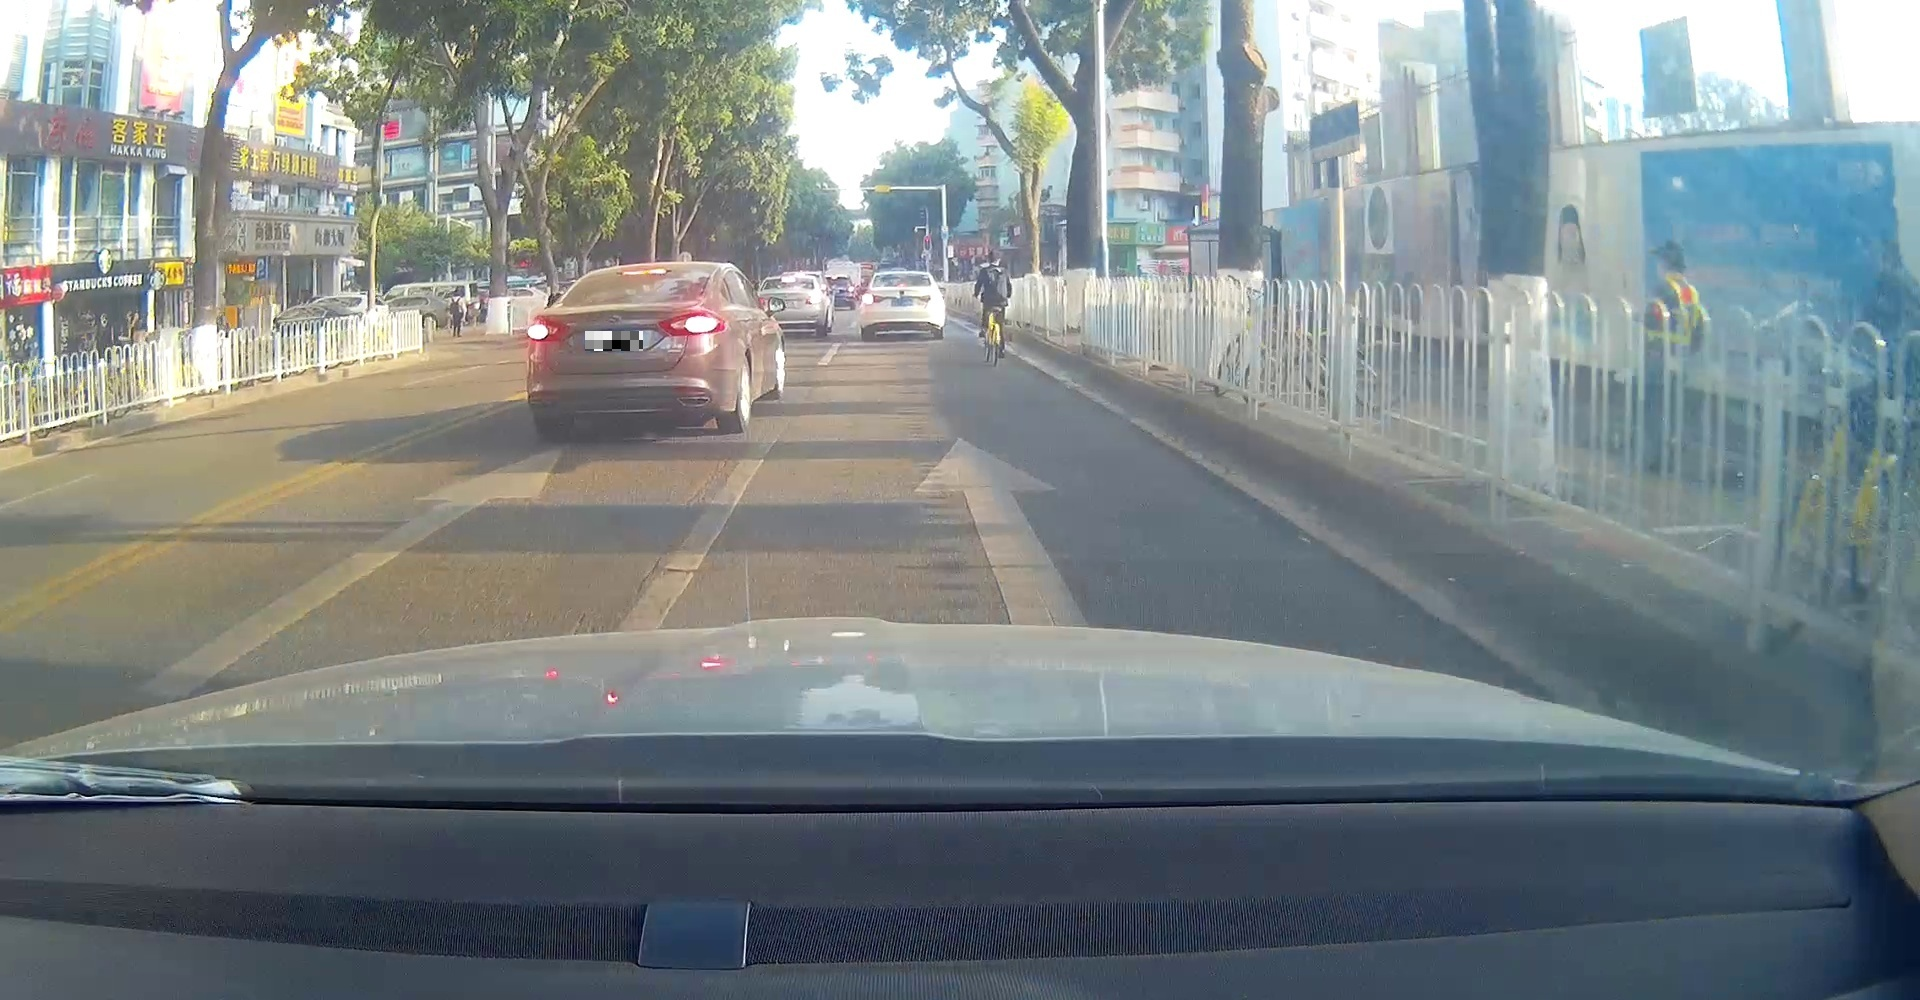L_light: (527, 315, 569, 343), (862, 292, 883, 305), (756, 298, 768, 308)
R_light: (657, 311, 728, 338), (919, 294, 938, 306), (804, 294, 822, 305)
T_light: (622, 268, 667, 275), (780, 275, 796, 284), (898, 274, 910, 279)
day-brake: (527, 261, 729, 440), (754, 275, 825, 338)
day-no: (860, 272, 943, 341)
plate_1: (585, 331, 643, 352)
